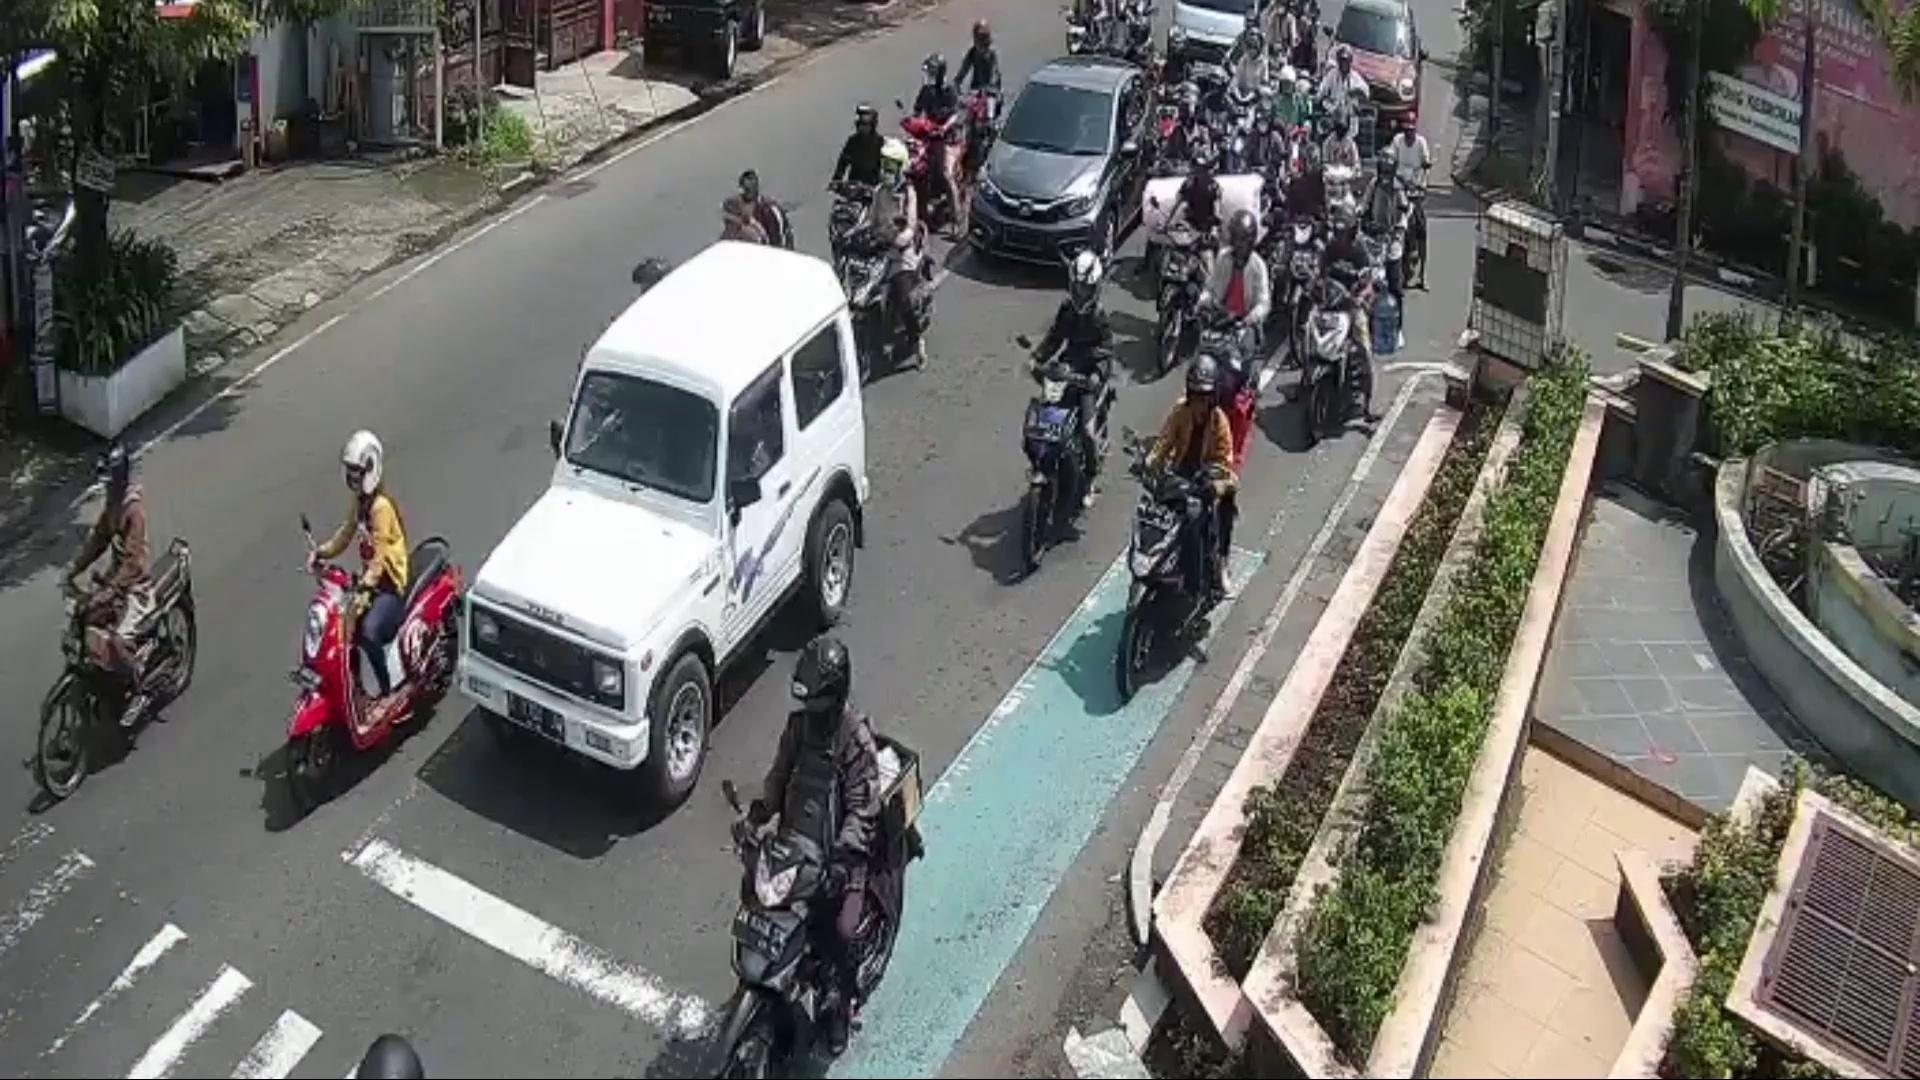car: (459, 239, 872, 802), (971, 53, 1153, 285), (1325, 0, 1416, 141)
motorbike: (286, 531, 462, 816), (712, 835, 907, 1080), (41, 533, 199, 790), (1021, 352, 1113, 576), (1120, 459, 1193, 712), (843, 225, 930, 372), (1304, 273, 1356, 463), (1154, 219, 1200, 377)
